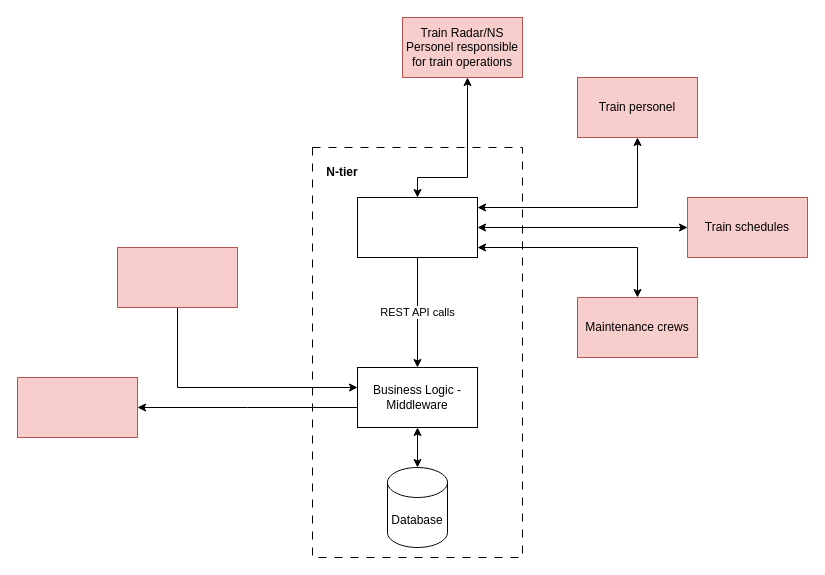
The diagram is 825 pixels wide and 575 high, and some of its shapes have lost their labels. Each missing label, with the centre of its shape:
"App/Schedule boards on stations" belongs at (x=77, y=407).
"Presentation Layer - UI codebase" belongs at (x=417, y=227).
"Sensor suite on trains" belongs at (x=177, y=277).
